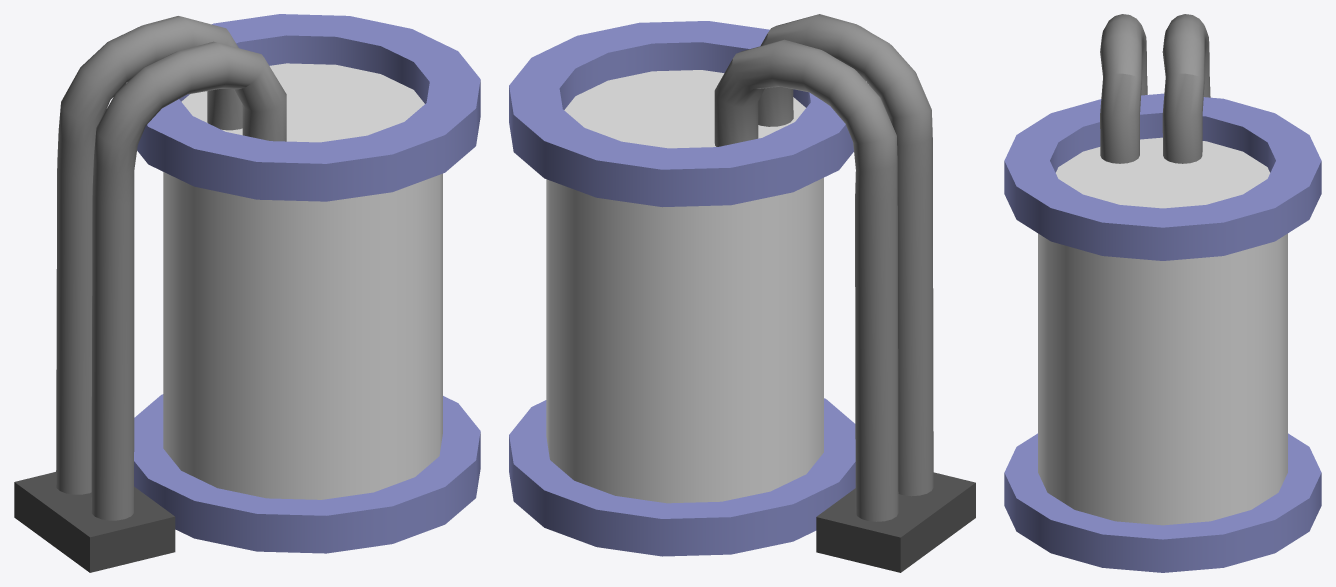
The model's file is Tanque Grande.fbx.
3 renders of one model, left to right at view 1: azimuth 30°, elevation 25°; view 2: azimuth 150°, elevation 25°; view 3: azimuth 270°, elevation 25°, orthographic. The views are drawn at different scales.
Visible parts, largest first — view 1: Tanque Grande; view 2: Tanque Grande; view 3: Tanque Grande.
Boxes of the visible parts, bbox=[...] form: Tanque Grande: bbox=[14, 14, 480, 572]; Tanque Grande: bbox=[509, 14, 975, 572]; Tanque Grande: bbox=[1004, 14, 1321, 572].
Bounding box in the file's own units: 70.85 × 80.06 × 53.83.
